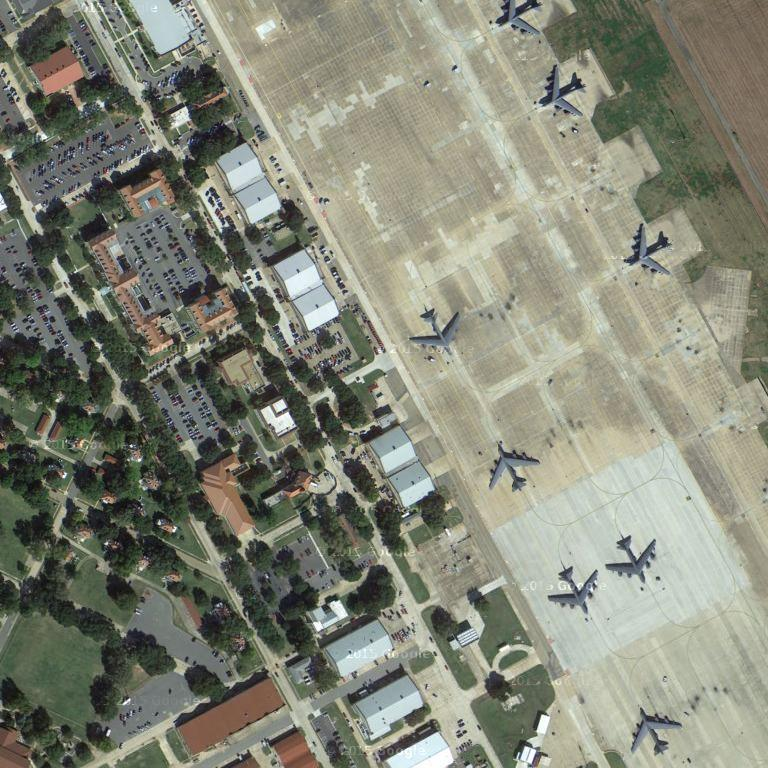B-52: (483, 438, 541, 495), (407, 303, 464, 358), (625, 218, 676, 279), (534, 63, 586, 122), (603, 532, 662, 583), (629, 701, 681, 758), (546, 562, 602, 614), (491, 2, 547, 39)
